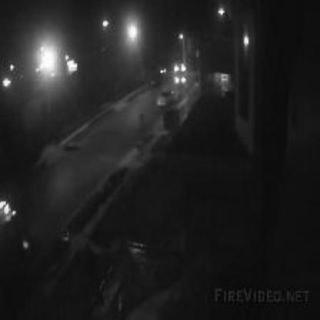other: (31, 27, 86, 91), (97, 12, 137, 46)
